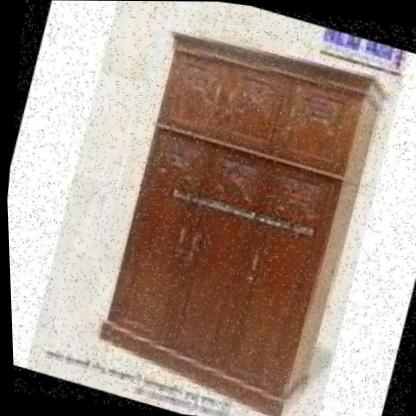Closet: (66, 4, 407, 416)
